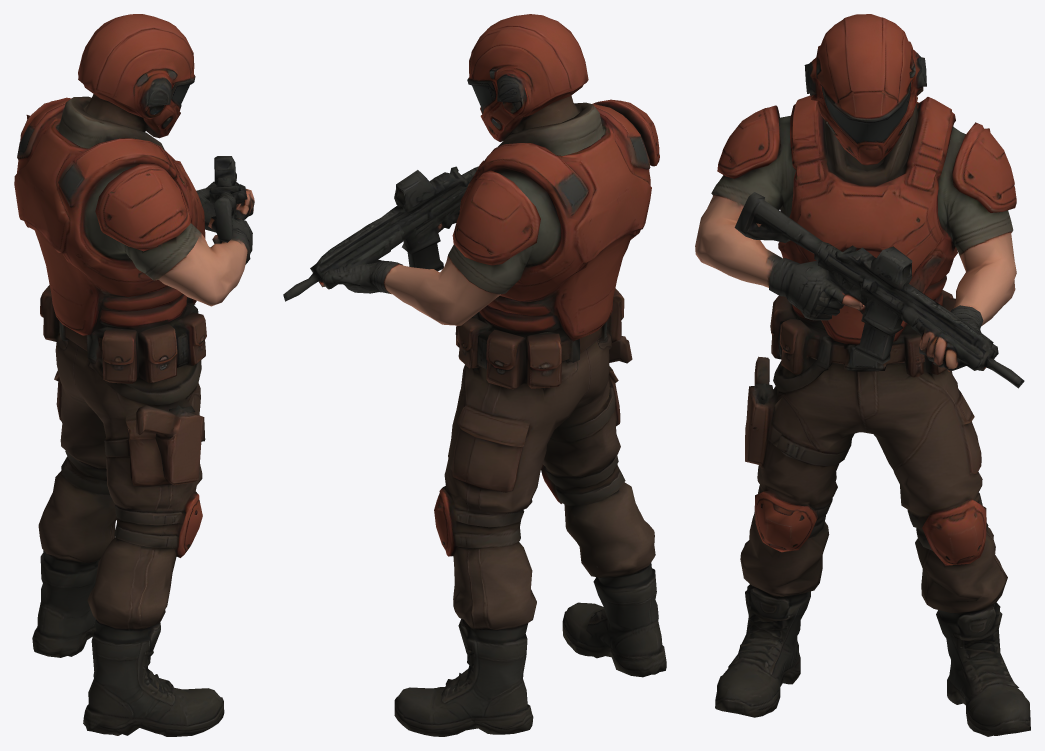
Rendered from soldier.glb.
The picture shows the model from 3 angles, left to right: view 1: azimuth 30°, elevation 25°; view 2: azimuth 150°, elevation 25°; view 3: azimuth 270°, elevation 25°; orthographic projection. The views are drawn at different scales.
Parts seen in each view (by area): view 1: tripo_node_c1bbd6a4-305a-4dab-82ed-baf5d2ca2ab5; view 2: tripo_node_c1bbd6a4-305a-4dab-82ed-baf5d2ca2ab5; view 3: tripo_node_c1bbd6a4-305a-4dab-82ed-baf5d2ca2ab5.
Boxes of the visible parts, bbox=[...] form: tripo_node_c1bbd6a4-305a-4dab-82ed-baf5d2ca2ab5: bbox=[14, 14, 254, 736]; tripo_node_c1bbd6a4-305a-4dab-82ed-baf5d2ca2ab5: bbox=[283, 14, 666, 736]; tripo_node_c1bbd6a4-305a-4dab-82ed-baf5d2ca2ab5: bbox=[695, 14, 1030, 736].
Bounding box in the file's own units: 0.4244 × 1 × 0.4398.
1 material, 1 textured.
